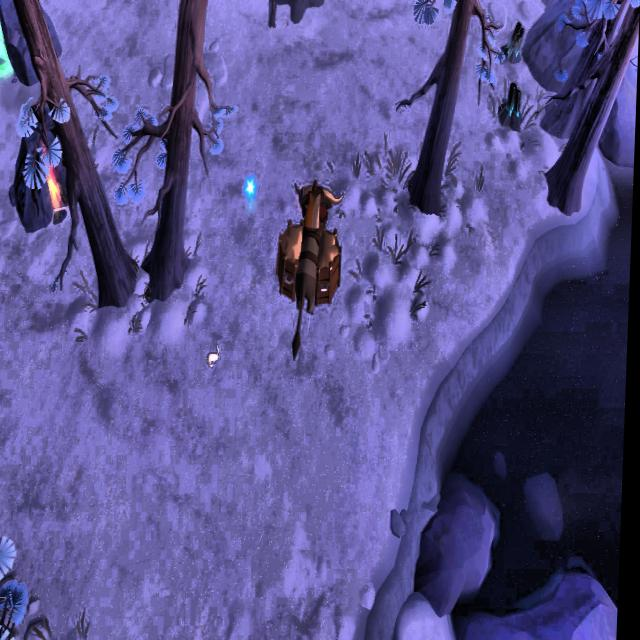ore_t4: (505, 21, 527, 65), (505, 81, 525, 122)
